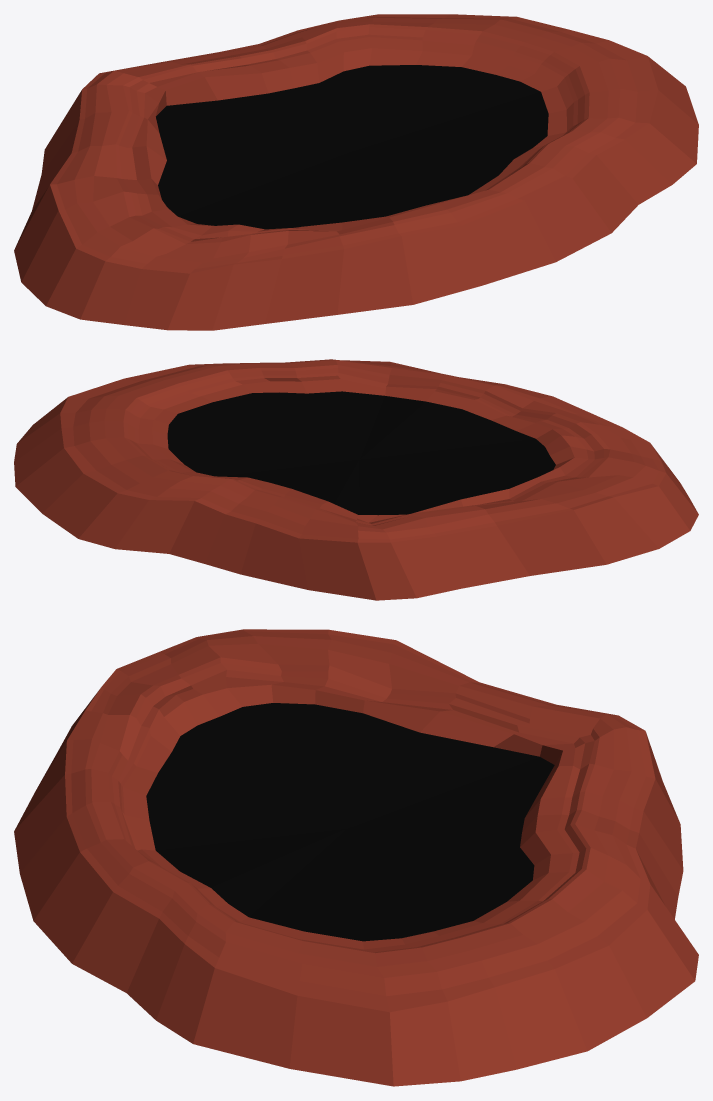
Rendered from Wound.fbx.
3 views of the same model, one above another, from view 1: azimuth 30°, elevation 25°; view 2: azimuth 150°, elevation 25°; view 3: azimuth 270°, elevation 25° (orthographic). The views are drawn at different scales.
Parts seen in each view (by area): view 1: Wound; view 2: Wound; view 3: Wound.
Boxes of the visible parts, box(x1,y1,x2,y2) form: Wound: box(14, 14, 698, 330); Wound: box(14, 359, 698, 600); Wound: box(14, 629, 698, 1086).
Bounding box in the file's own units: 68.99 × 47.57 × 6.16.
